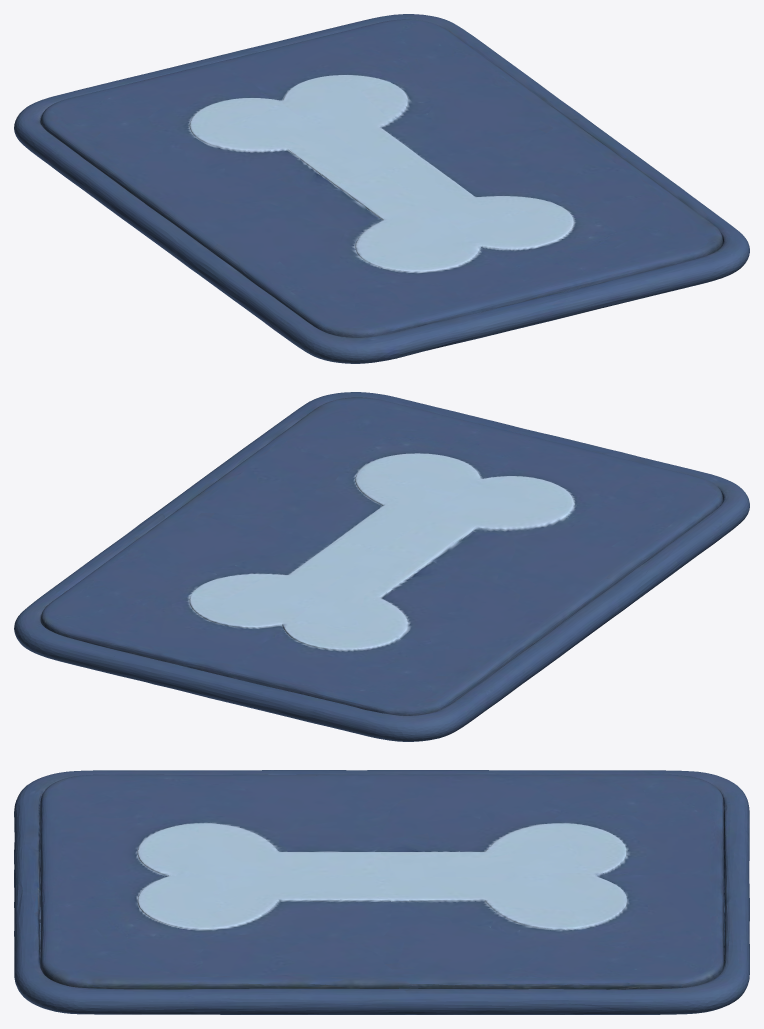
3 views of the same model, one above another, from view 1: azimuth 30°, elevation 25°; view 2: azimuth 150°, elevation 25°; view 3: azimuth 270°, elevation 25° (orthographic). The views are drawn at different scales.
Visible parts, largest first — view 1: tripo_node_a31a72af-8f78-48ad-94fe-48d40a81056f; view 2: tripo_node_a31a72af-8f78-48ad-94fe-48d40a81056f; view 3: tripo_node_a31a72af-8f78-48ad-94fe-48d40a81056f.
Boxes of the visible parts, x1,y1,x2,y2 form: tripo_node_a31a72af-8f78-48ad-94fe-48d40a81056f: (14, 14, 749, 363); tripo_node_a31a72af-8f78-48ad-94fe-48d40a81056f: (14, 392, 749, 741); tripo_node_a31a72af-8f78-48ad-94fe-48d40a81056f: (14, 770, 749, 1014).
Size of the model in its own units: 0.7296 by 0.0537 by 0.9802.
Materials: 1 (1 with a texture image).
